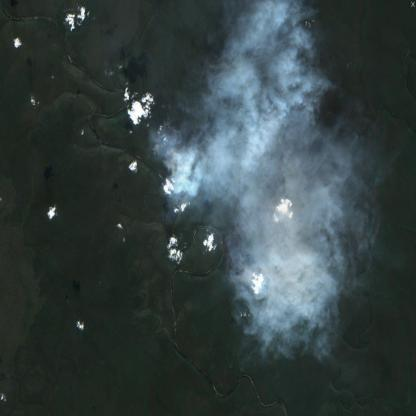fire: (229, 188, 320, 322), (155, 115, 190, 170)
